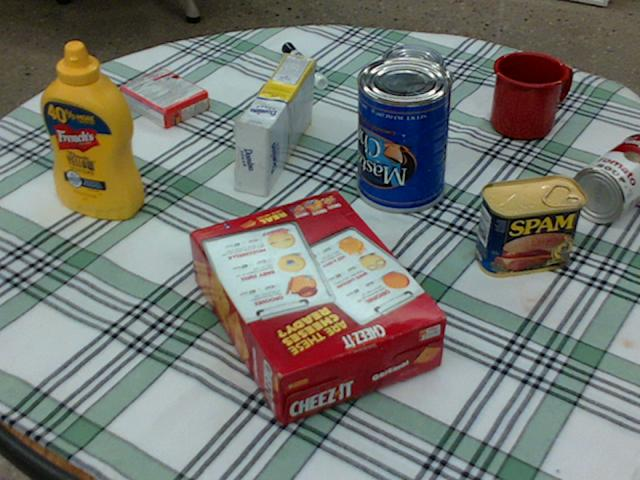cracker_box: (188, 190, 447, 425)
gelatin_box: (120, 69, 207, 128)
large_marker: (282, 41, 326, 88)
master_chef_can: (354, 55, 454, 211)
mug: (491, 52, 569, 139)
mustard_bottle: (40, 41, 142, 218)
potted_meat_can: (474, 174, 585, 277)
sugar_box: (234, 53, 314, 196)
tomato_soup_can: (570, 135, 639, 222)
tuna_fish_can: (381, 44, 443, 93)
